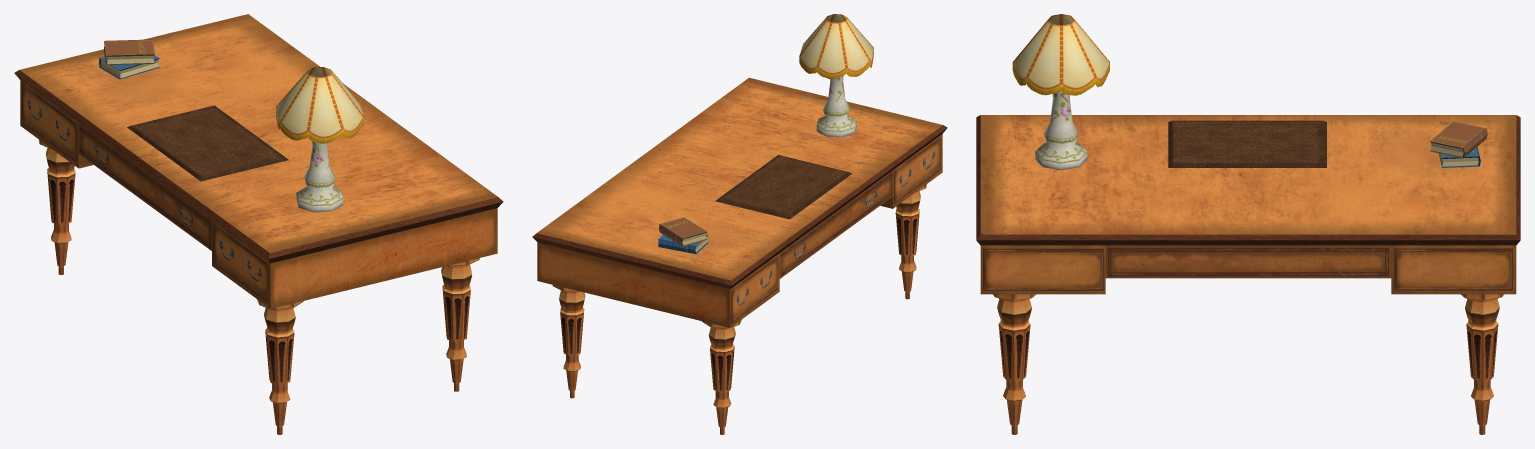
File: Desk.fbx
3 views of the same model, side by side, from view 1: azimuth 30°, elevation 25°; view 2: azimuth 150°, elevation 25°; view 3: azimuth 270°, elevation 25° (orthographic). The views are drawn at different scales.
Visible parts, largest first — view 1: Table, Office Lamp, Desk Blotter, Book 2, Book 1; view 2: Table, Office Lamp, Desk Blotter, Book 2, Book 1; view 3: Table, Office Lamp, Desk Blotter, Book 2, Book 1.
Boxes of the visible parts, left/top/right/bottom form: Table: left=14, top=14, right=503, bottom=434; Office Lamp: left=276, top=67, right=363, bottom=212; Desk Blotter: left=127, top=105, right=288, bottom=181; Book 2: left=103, top=39, right=154, bottom=64; Book 1: left=99, top=55, right=159, bottom=79; Table: left=532, top=77, right=947, bottom=434; Office Lamp: left=799, top=14, right=873, bottom=137; Desk Blotter: left=715, top=155, right=852, bottom=219; Book 2: left=659, top=217, right=707, bottom=246; Book 1: left=658, top=234, right=708, bottom=253; Table: left=976, top=115, right=1520, bottom=434; Office Lamp: left=1012, top=14, right=1109, bottom=170; Desk Blotter: left=1168, top=120, right=1326, bottom=167; Book 2: left=1430, top=121, right=1487, bottom=158; Book 1: left=1439, top=147, right=1480, bottom=167.
Size of the model in its own units: 98.32 by 132 by 184.
Materials: 6 (6 with a texture image).
